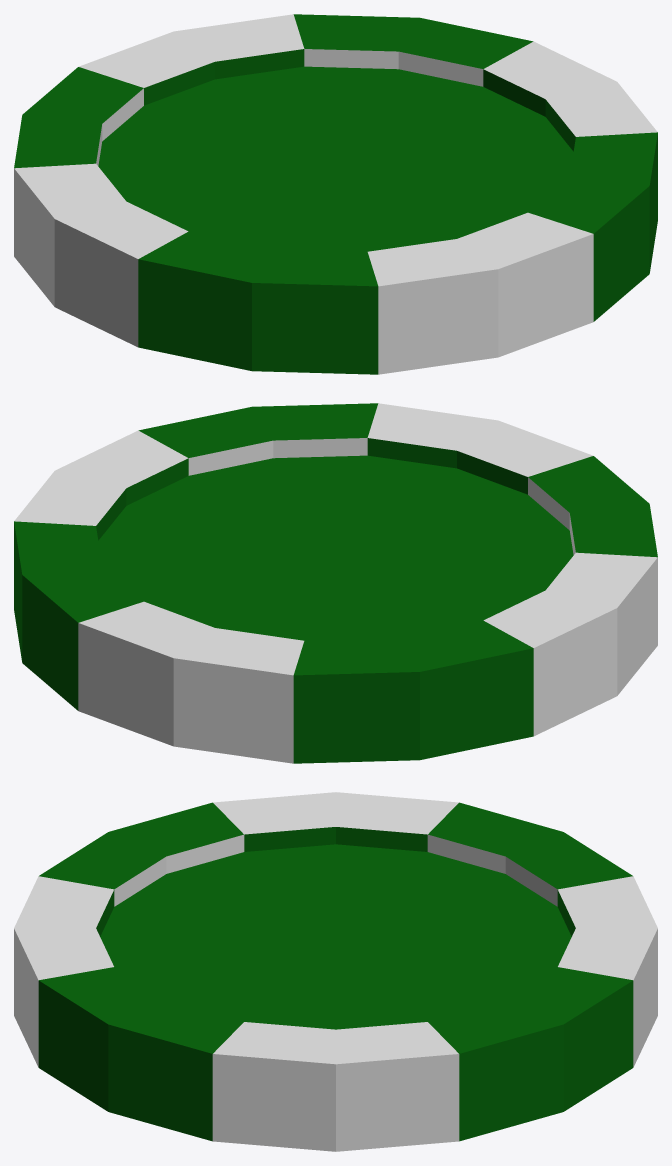
The model's file is pokerChipAlt3.fbx.
3 renders of one model, top to bottom at view 1: azimuth 30°, elevation 25°; view 2: azimuth 150°, elevation 25°; view 3: azimuth 270°, elevation 25°, orthographic.
Parts seen in each view (by area): view 1: Cylinder; view 2: Cylinder; view 3: Cylinder.
Boxes of the visible parts, x1,y1,x2,y2 form: Cylinder: (14,14,657,374); Cylinder: (14,403,657,763); Cylinder: (14,792,657,1151).
Size of the model in its own units: 200 by 30 by 200.
